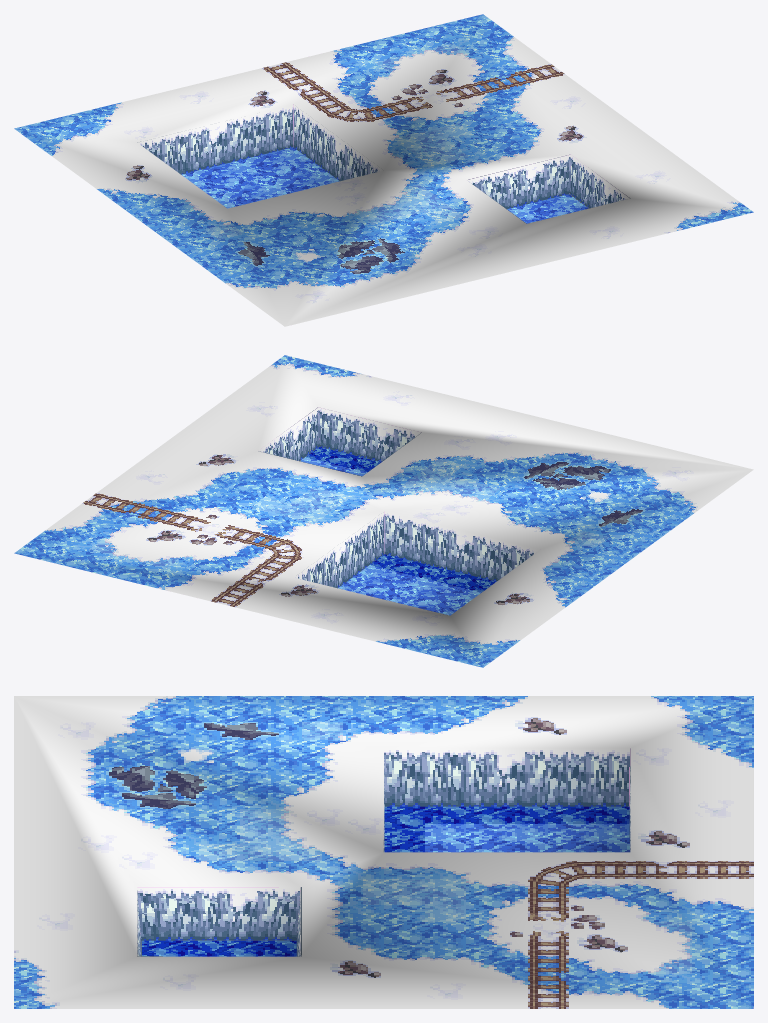
3 views of the same model, one above another, from view 1: azimuth 30°, elevation 25°; view 2: azimuth 150°, elevation 25°; view 3: azimuth 270°, elevation 25° (orthographic). The views are drawn at different scales.
Visible parts, largest first — view 1: plane; view 2: plane; view 3: plane.
Part boxes in pixels (<box>): plane: <box>14,14,753,326</box>; plane: <box>14,355,753,667</box>; plane: <box>14,696,753,1008</box>.
Size of the model in its own units: 4.5 by 0.3895 by 4.5.
Materials: 1 (1 with a texture image).
